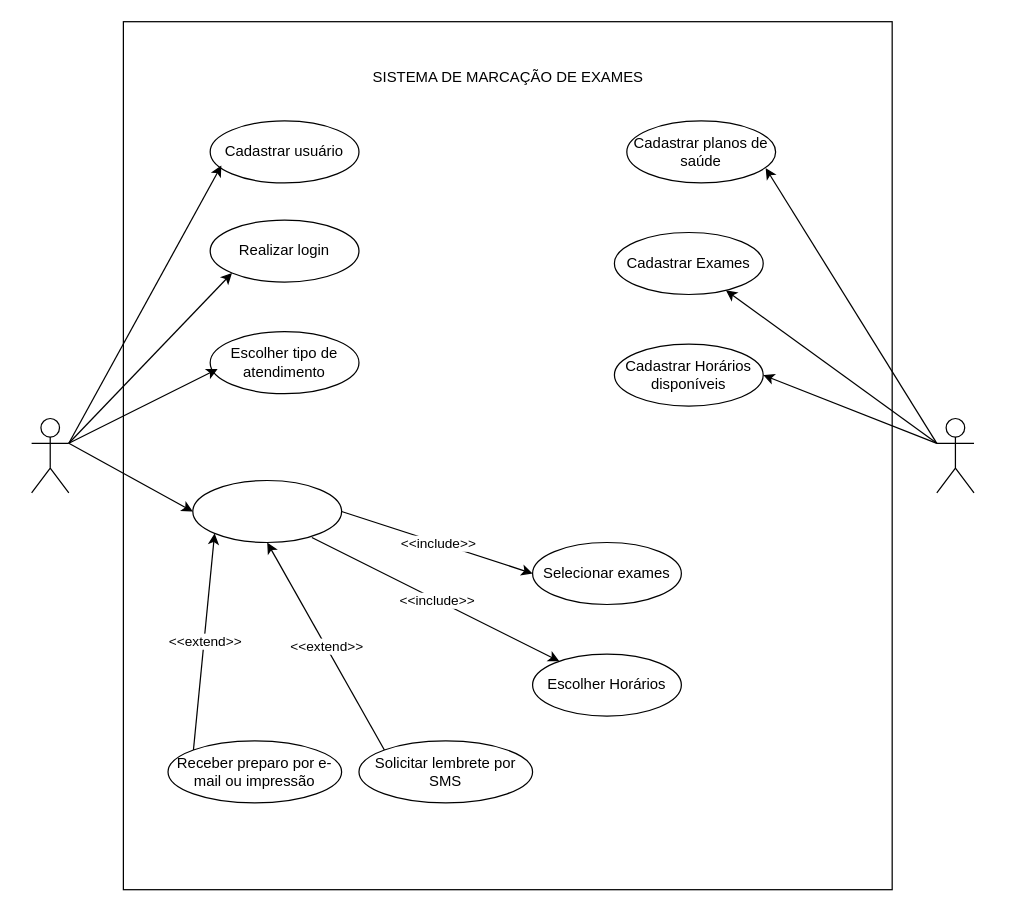
Image size: 1021x911. Some labels were removed from this diagram. Each missing label, with the box of its shape:
Adminstrador: (936, 417, 974, 493)
Confirmar agendamento: (192, 479, 342, 542)
Paciente: (30, 417, 69, 493)
